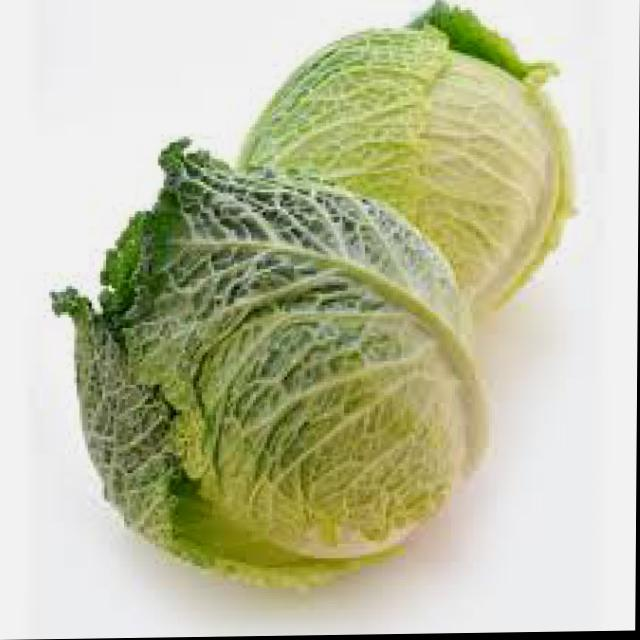Cabbage: (51, 130, 496, 595), (241, 0, 581, 316)
